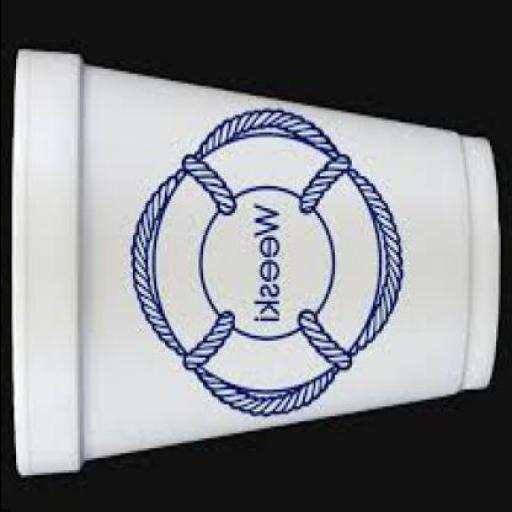paper: (8, 46, 495, 472)
